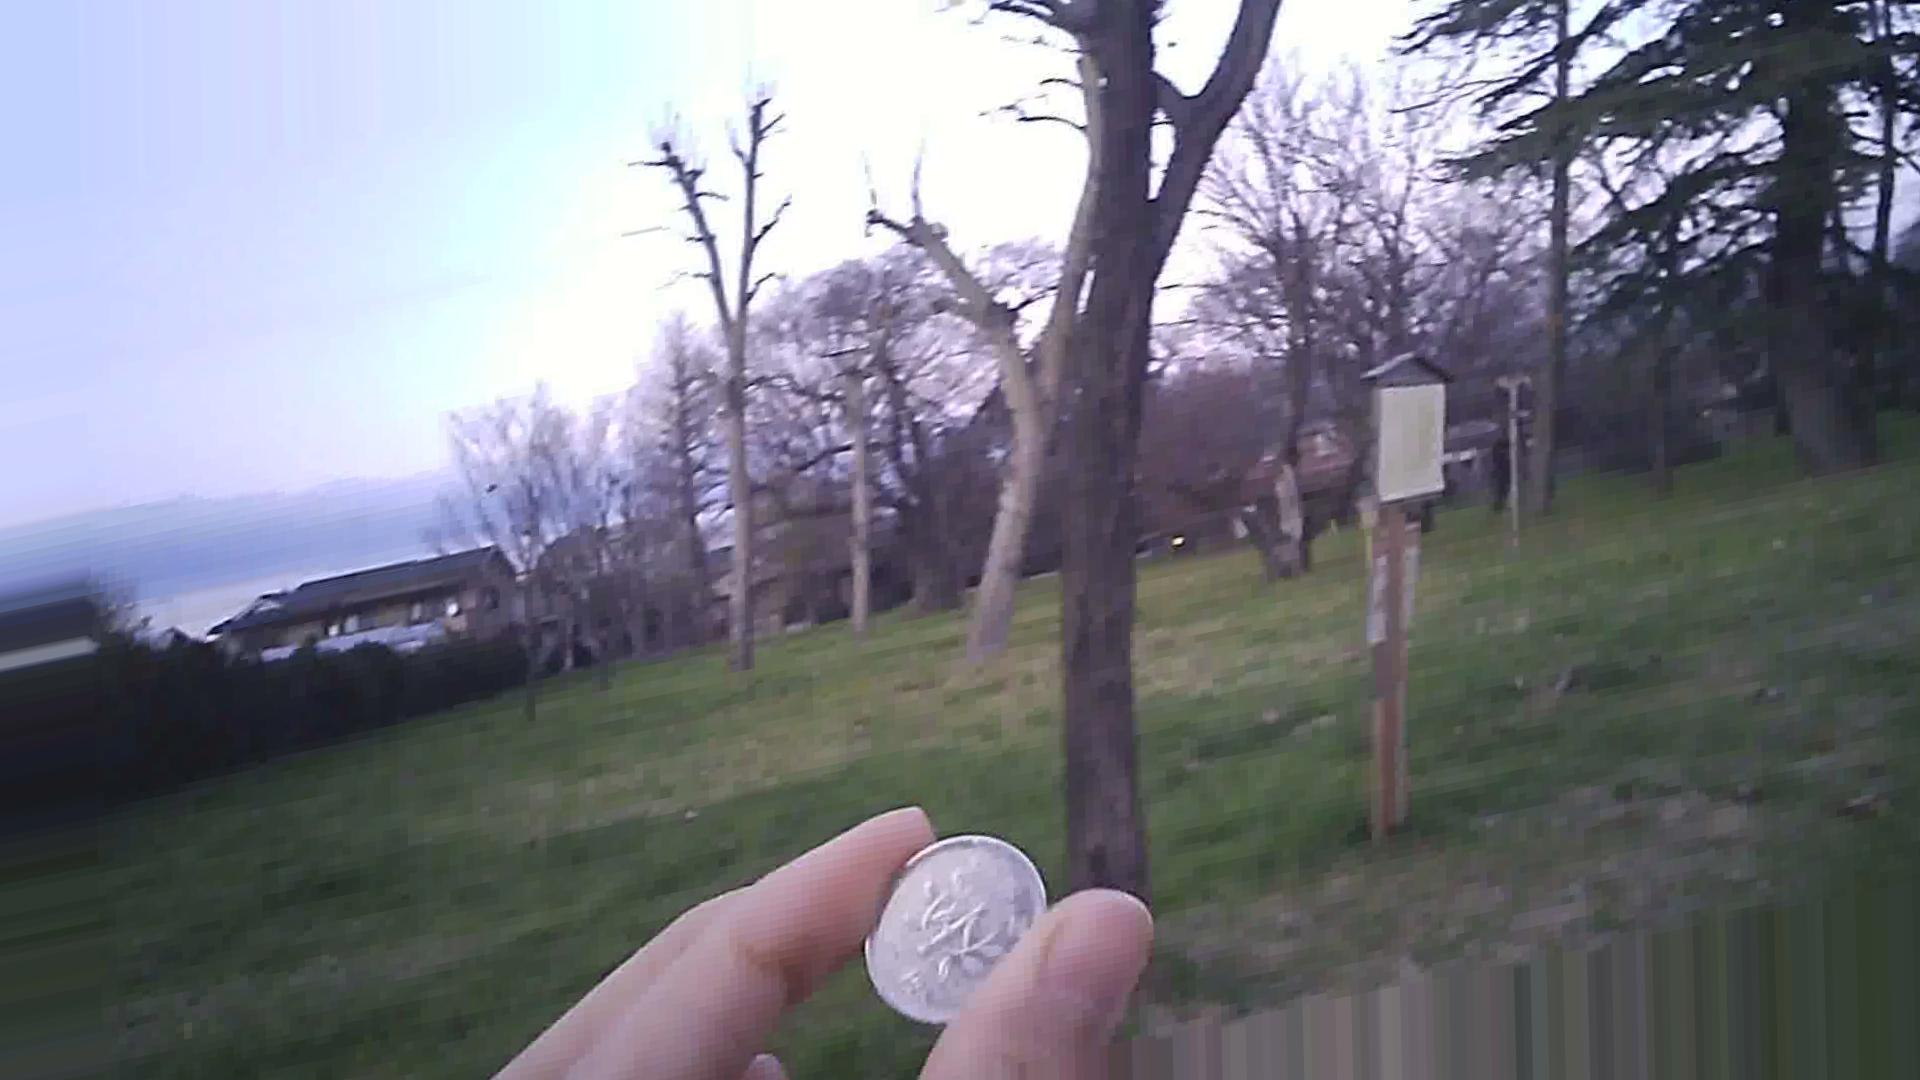1 Yen: (847, 833, 1048, 1013)
